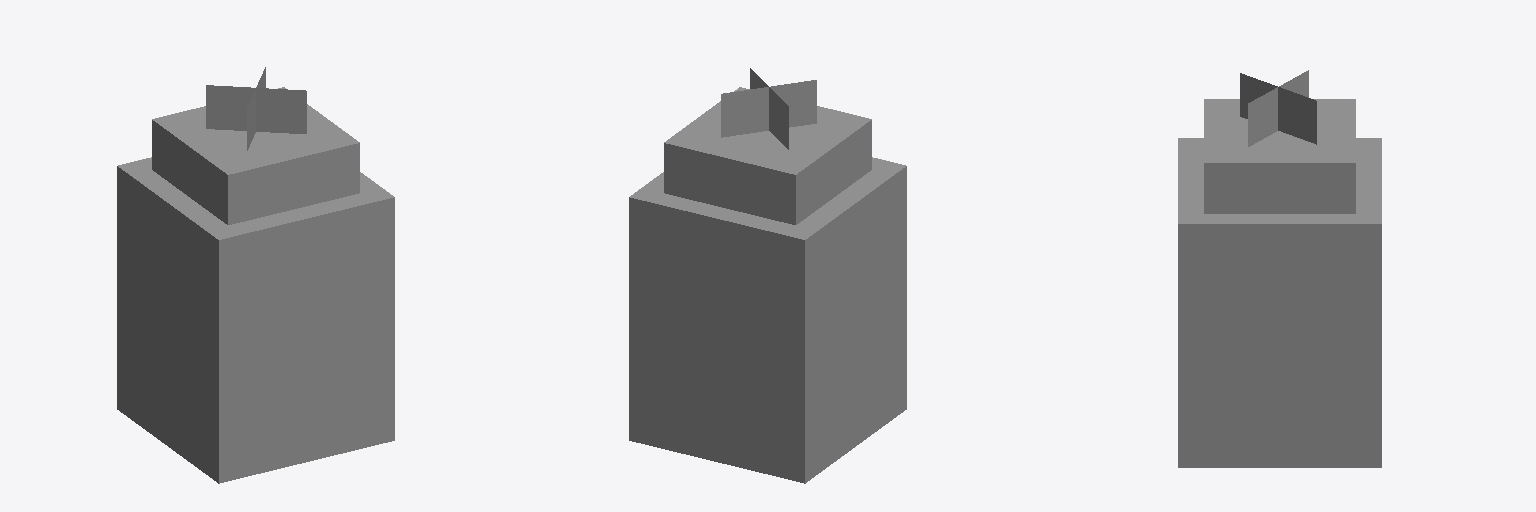
File: lantern.obj
The picture shows the model from 3 angles: view 1: azimuth 30°, elevation 25°; view 2: azimuth 150°, elevation 25°; view 3: azimuth 270°, elevation 25°; orthographic projection.
Parts seen in each view (by area): view 1: Plane; view 2: Plane; view 3: Plane.
Boxes of the visible parts, x1=… form: Plane: x1=117, y1=67, x2=394, y2=483; Plane: x1=629, y1=68, x2=906, y2=483; Plane: x1=1178, y1=70, x2=1381, y2=467.
Bounding box in the file's own units: 0.4 × 0.7324 × 0.4.